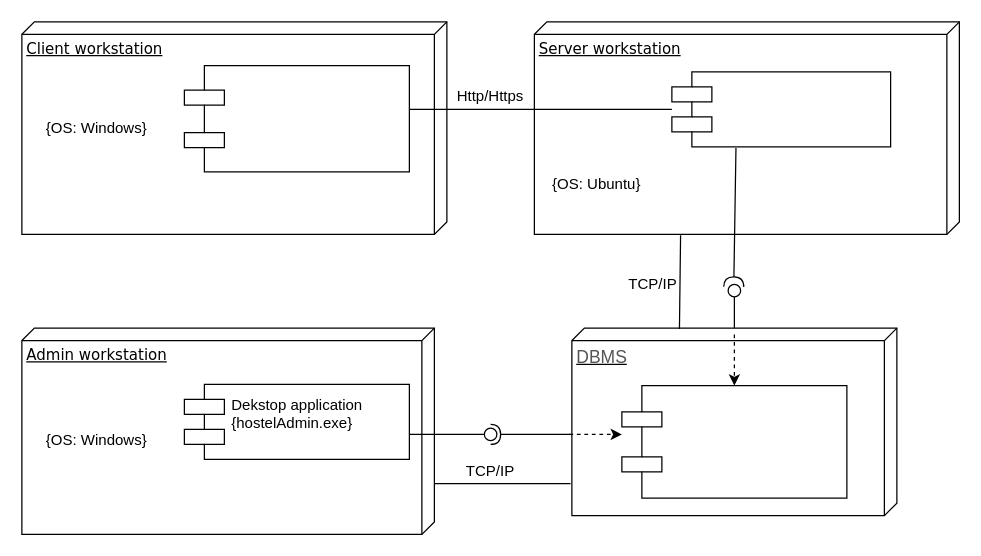
The diagram is 981 pixels wide and 556 high, and some of its shapes have lost their labels. Each missing label, with the centre of its shape:
Browser: the point at 296,118
Database {MySQL}: the point at 734,441
Web Application Server {Alpache Tomcat}: the point at 781,109
